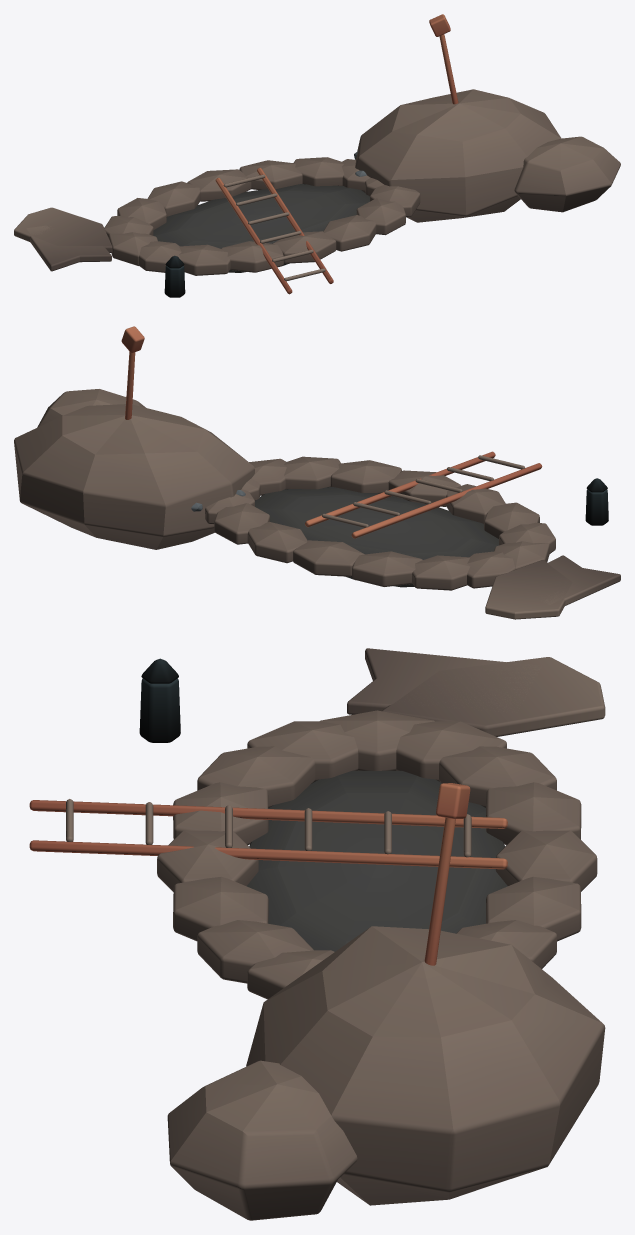
File: dig_pit.glb
3 views of the same model, one above another, from view 1: azimuth 30°, elevation 25°; view 2: azimuth 150°, elevation 25°; view 3: azimuth 270°, elevation 25° (orthographic). The views are drawn at different scales.
Parts seen in each view (by area): view 1: dig_pit; view 2: dig_pit; view 3: dig_pit.
Boxes of the visible parts, left/top/right/bottom form: dig_pit: left=14, top=14, right=620, bottom=297; dig_pit: left=14, top=326, right=620, bottom=619; dig_pit: left=29, top=648, right=605, bottom=1220.
Bounding box in the file's own units: 5.73 × 1.89 × 2.65.
1 material, 1 textured.
